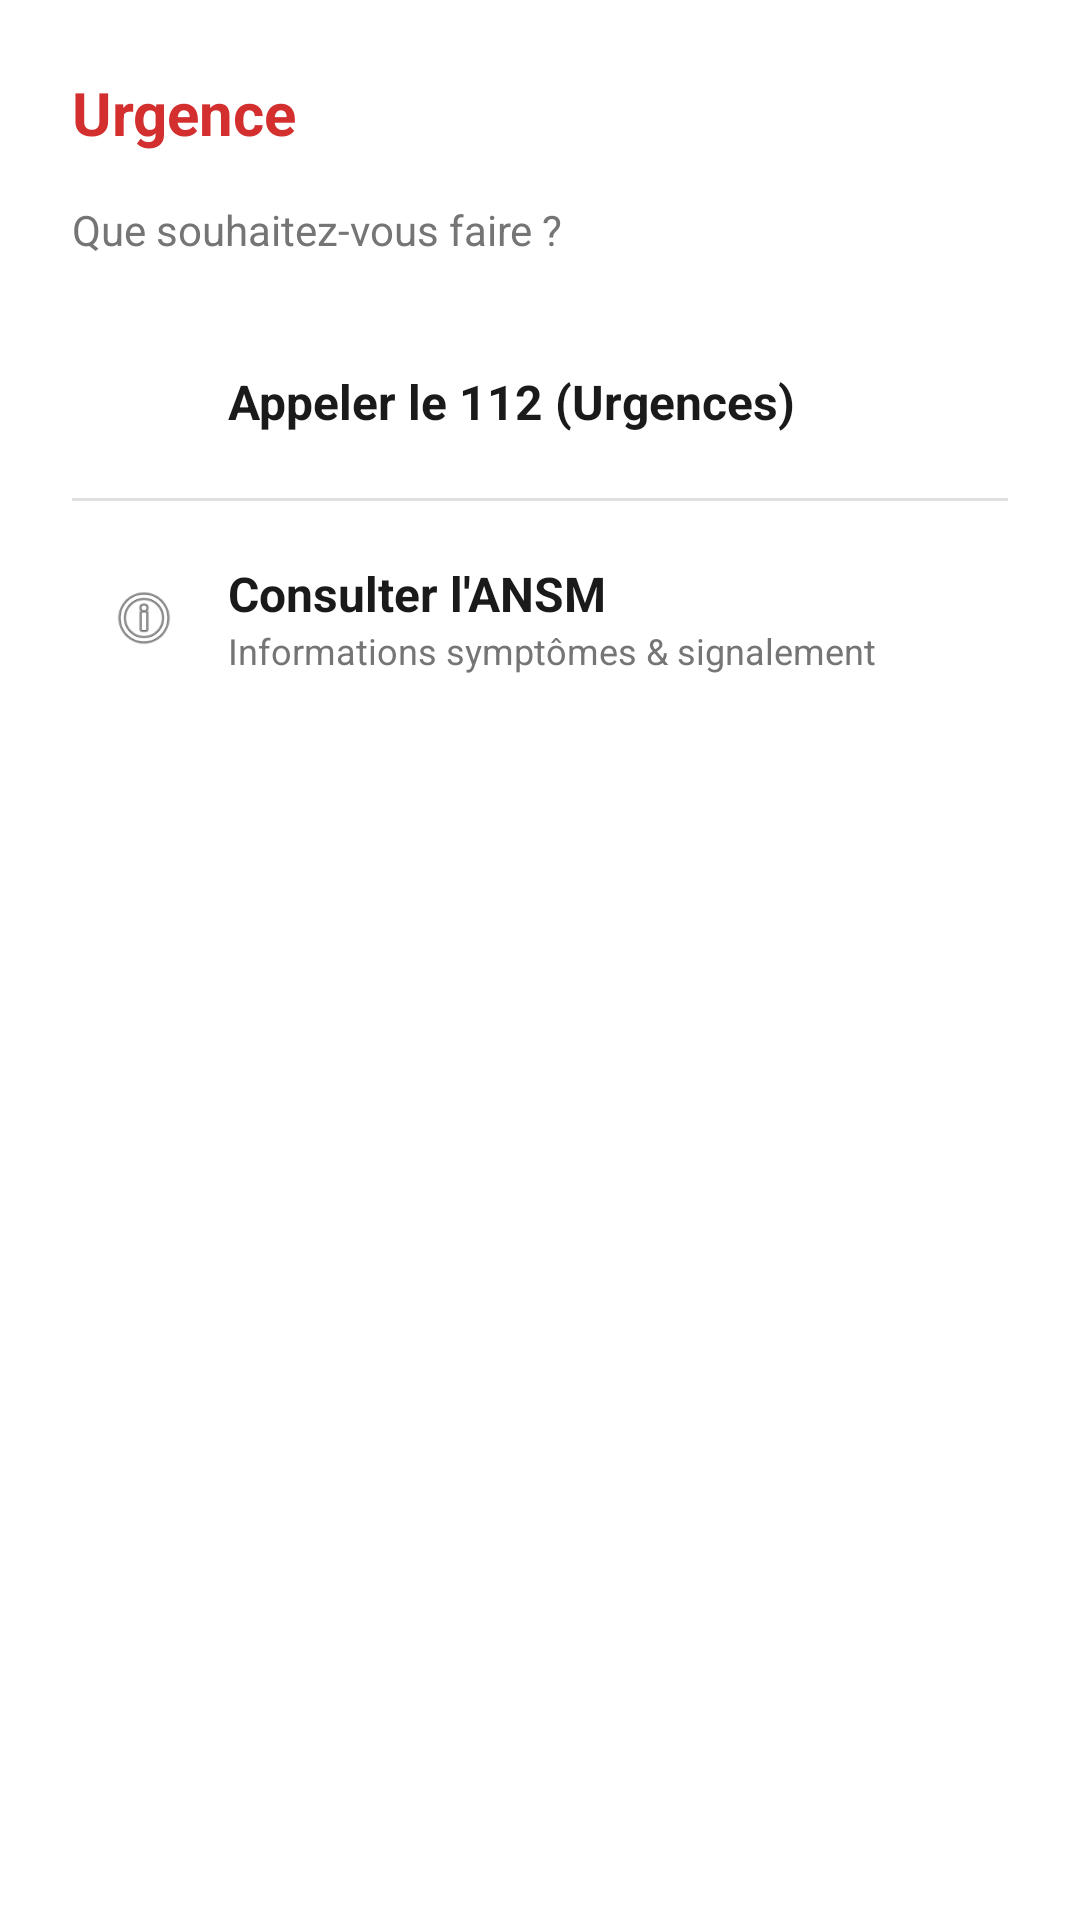

Icon click points for this 1080x1920 phone screenshot, format [x,y]:
Icone info: [144,618]
